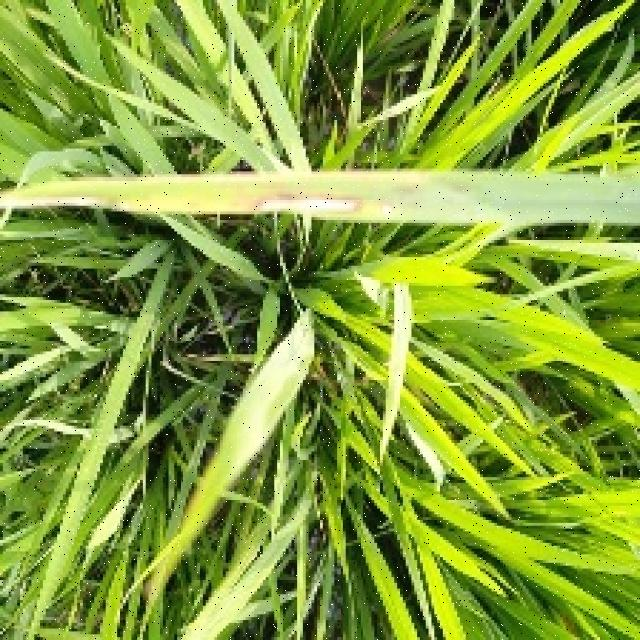unhealth: (0, 176, 640, 223)
